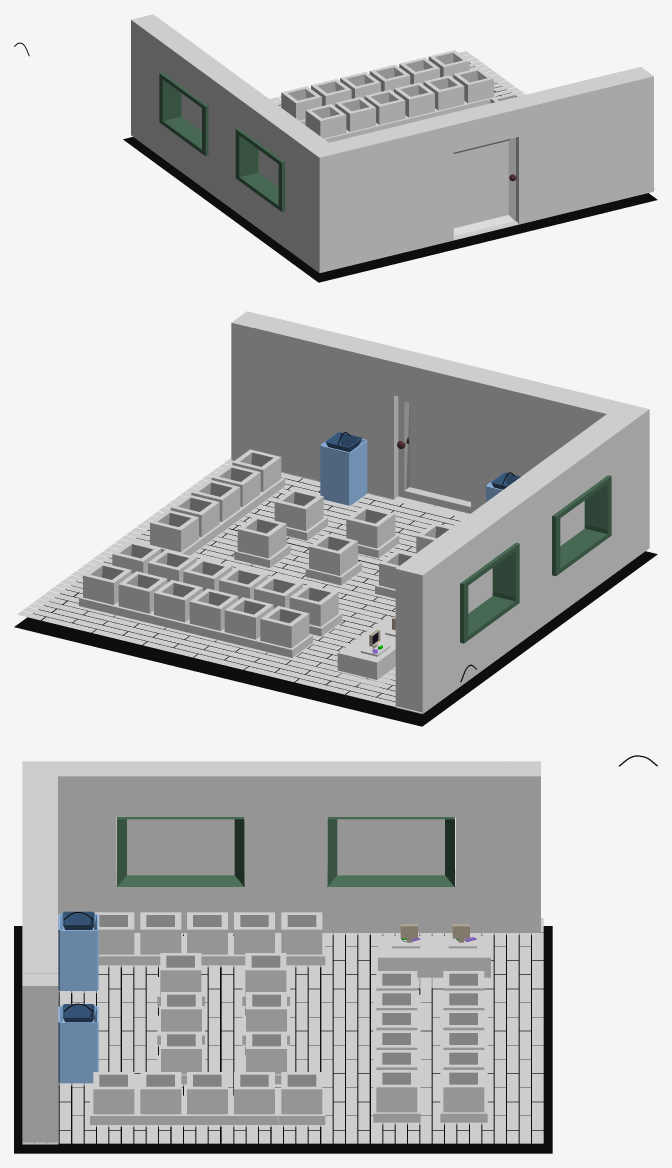
Rendered from shop.fbx.
3 renders of one model, top to bottom at view 1: azimuth 30°, elevation 25°; view 2: azimuth 150°, elevation 25°; view 3: azimuth 270°, elevation 25°, orthographic. The views are drawn at different scales.
Visible parts, largest first — view 1: Shop walls, Plane.238, DoorWindow, Window, Window.001, Door, FlowerBoxHolderSingle.011, FlowerBoxHolderSingle.008, FlowerBoxHolderSingle.010, FlowerBoxHolderSingle.006, FlowerBoxHolderSingle.009, FlowerBoxHolderSingle.007 (+8 smaller); view 2: Shop walls, Plane.238, DoorWindow, Window, Window.001, Baskets Box.001, Till, Door, FlowerBoxHolderSingle.002, FlowerBoxHolderSingle.022, FlowerBoxHolderSingle.005, FlowerBoxHolderSingle.038 (+22 smaller); view 3: Shop walls, Plane.238, DoorWindow.001, DoorWindow.002, Till, Window, Window.001, Baskets Box.003, Baskets Box.001, FlowerBoxHolderSingle.024, FlowerBoxHolderSingle.036, FlowerBoxHolderSingle.037 (+35 smaller).
Boxes of the visible parts, x1,y1,x2,y2 form: Shop walls: [131, 14, 653, 273]; Plane.238: [123, 63, 657, 282]; DoorWindow: [453, 140, 508, 228]; Window: [235, 128, 285, 211]; Window.001: [159, 72, 208, 156]; Door: [453, 137, 515, 235]; FlowerBoxHolderSingle.011: [305, 104, 346, 138]; FlowerBoxHolderSingle.008: [423, 75, 464, 110]; FlowerBoxHolderSingle.010: [335, 97, 375, 131]; FlowerBoxHolderSingle.006: [394, 82, 434, 117]; FlowerBoxHolderSingle.009: [453, 68, 493, 103]; FlowerBoxHolderSingle.007: [364, 89, 405, 124]; Shop walls: [231, 311, 649, 714]; Plane.238: [14, 477, 657, 726]; DoorWindow: [409, 403, 470, 501]; Window: [552, 475, 611, 575]; Window.001: [460, 542, 519, 643]; Baskets Box.001: [320, 437, 367, 505]; Till: [337, 617, 395, 687]; Door: [398, 396, 472, 513]; FlowerBoxHolderSingle.002: [237, 516, 286, 558]; FlowerBoxHolderSingle.022: [260, 606, 309, 648]; FlowerBoxHolderSingle.005: [309, 533, 357, 575]; FlowerBoxHolderSingle.038: [150, 510, 198, 552]; Shop walls: [22, 761, 540, 1144]; Plane.238: [14, 926, 552, 1153]; DoorWindow.001: [127, 819, 234, 875]; DoorWindow.002: [337, 819, 444, 875]; Till: [378, 935, 490, 988]; Window: [117, 817, 244, 886]; Window.001: [327, 817, 454, 886]; Baskets Box.003: [58, 913, 98, 993]; Baskets Box.001: [58, 1006, 98, 1085]; FlowerBoxHolderSingle.024: [443, 1070, 484, 1112]; FlowerBoxHolderSingle.036: [140, 1072, 181, 1114]; FlowerBoxHolderSingle.037: [93, 1072, 134, 1114].
Bounding box in the file's own units: 781 × 222 × 770.
